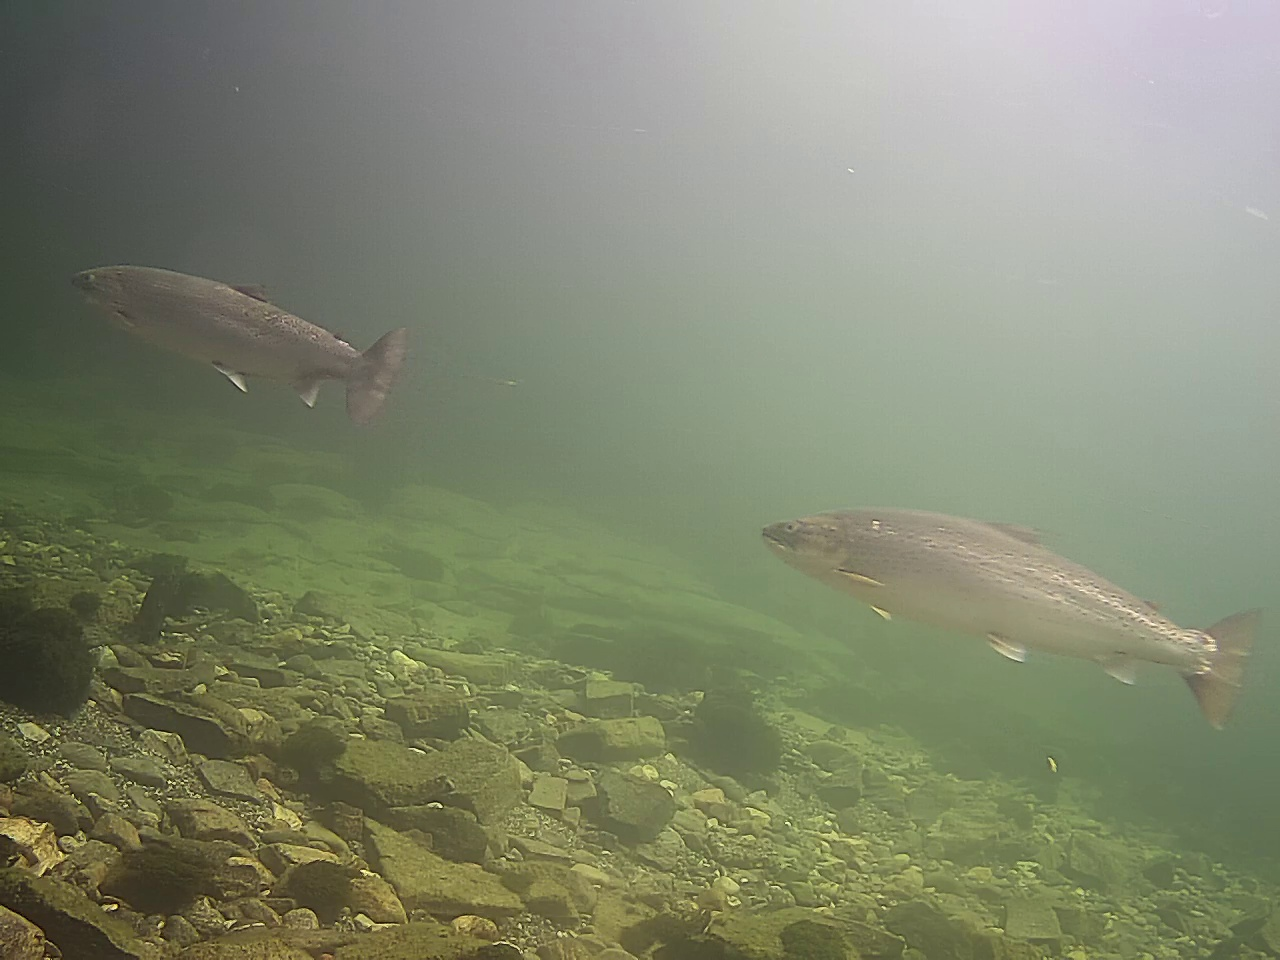salmon: (760, 503, 1267, 732), (68, 263, 411, 426)
